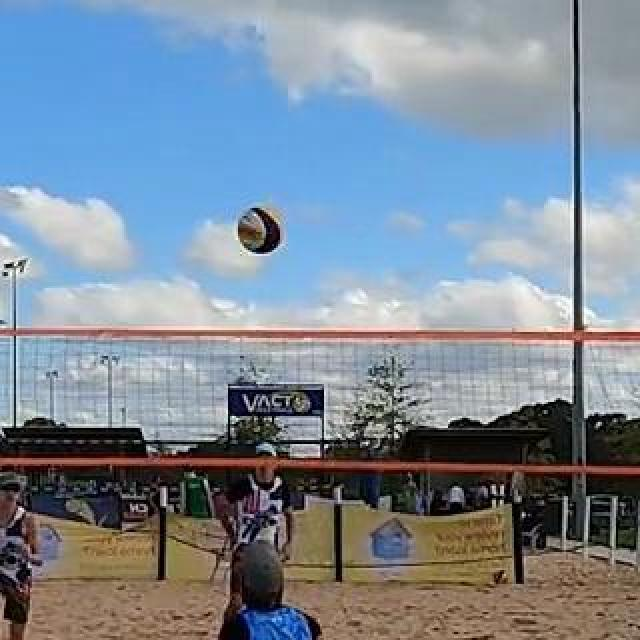volleyball: (240, 206, 284, 252), (492, 569, 510, 587)
